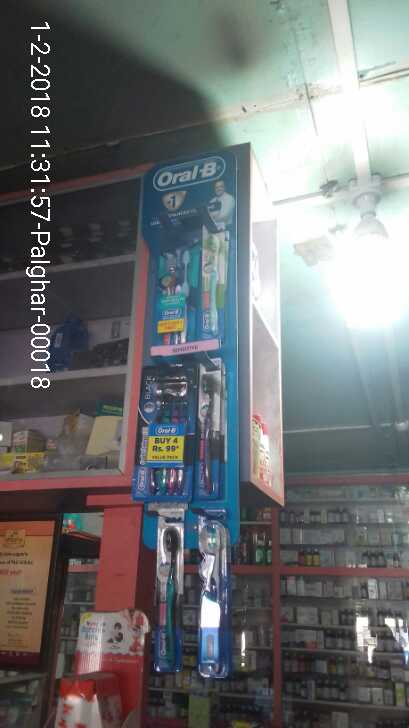oralb: (153, 241, 234, 342), (133, 373, 184, 498), (150, 518, 182, 673), (202, 525, 228, 680), (195, 372, 221, 499)
